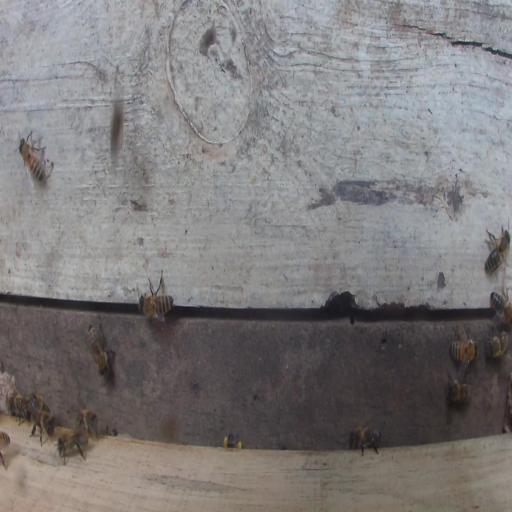bee: (137, 268, 175, 323), (85, 319, 114, 378), (484, 225, 510, 277), (54, 426, 88, 465), (30, 393, 53, 446), (348, 425, 382, 456), (19, 139, 44, 181), (449, 331, 478, 365), (446, 375, 472, 406), (490, 290, 511, 325), (77, 408, 99, 439), (9, 393, 31, 423), (487, 329, 509, 358), (1, 430, 10, 470), (224, 434, 242, 450)
